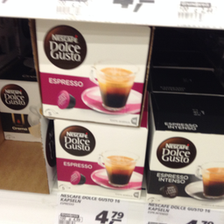coffee: (34, 19, 152, 127), (148, 90, 224, 204), (53, 119, 149, 199)
